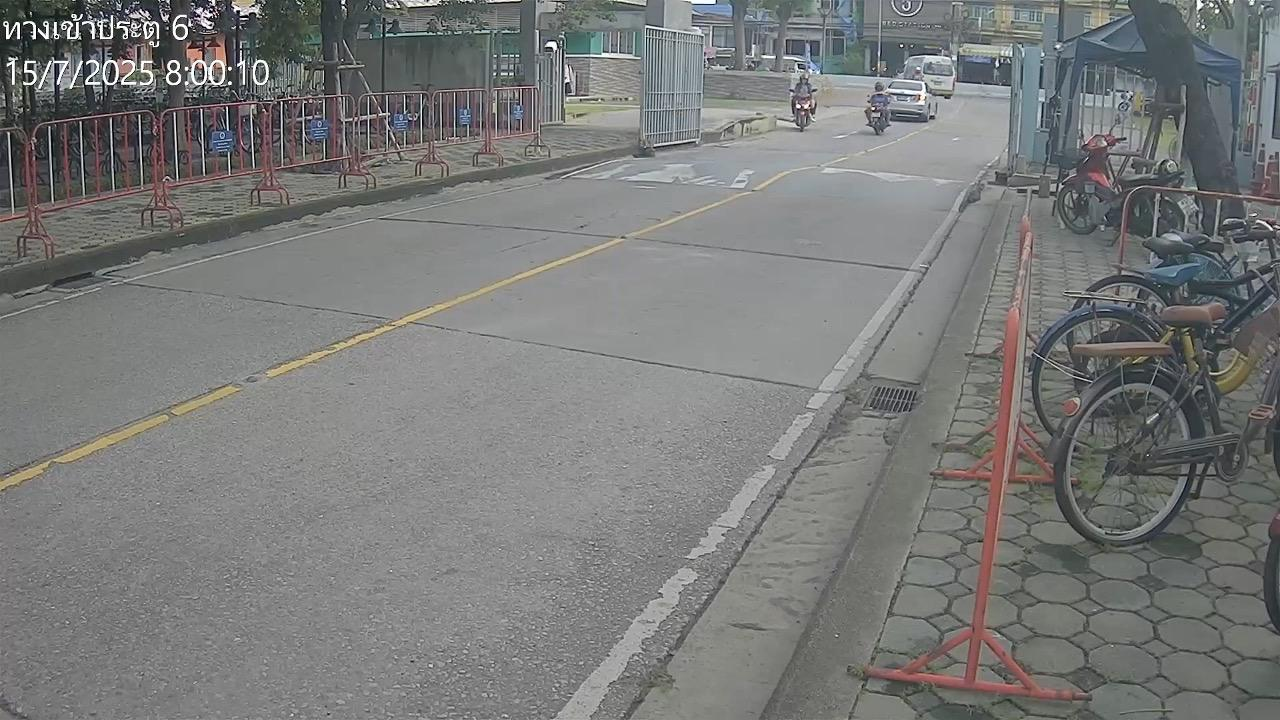With-Helmet: (800, 73, 809, 83), (875, 81, 884, 90)
